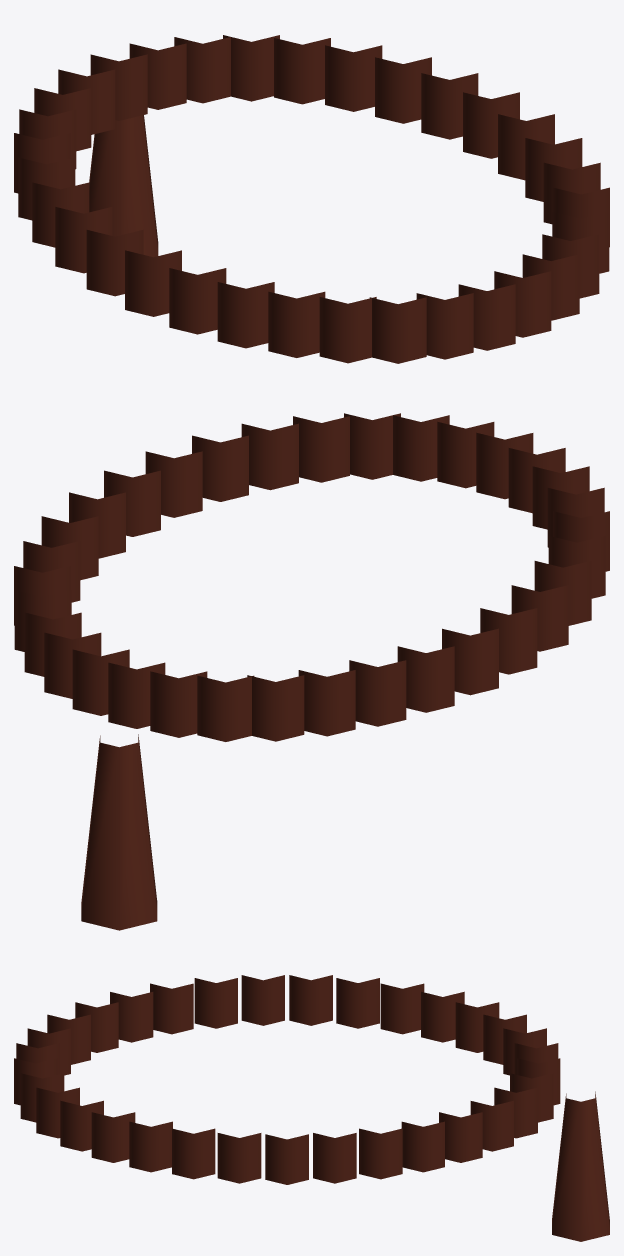
Rendered from prayer_beads.glb.
3 views of the same model, one above another, from view 1: azimuth 30°, elevation 25°; view 2: azimuth 150°, elevation 25°; view 3: azimuth 270°, elevation 25° (orthographic). The views are drawn at different scales.
Visible parts, largest first — view 1: cyl (×33), object 1; view 2: cyl (×33), object 1; view 3: cyl (×33), object 1.
Part boxes in pixels (left/top/right/bottom): cyl (×33): left=14, top=35, right=609, bottom=363; object 1: left=89, top=115, right=158, bottom=257; cyl (×33): left=14, top=413, right=609, bottom=741; object 1: left=81, top=734, right=157, bottom=930; cyl (×33): left=14, top=975, right=560, bottom=1184; object 1: left=552, top=1091, right=609, bottom=1241.
Size of the model in its own units: 0.1018 by 0.047 by 0.1421.
